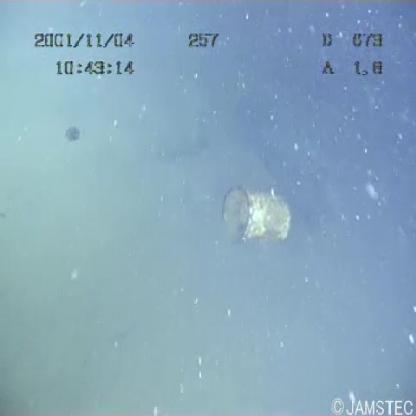Rác: (217, 181, 294, 242)
